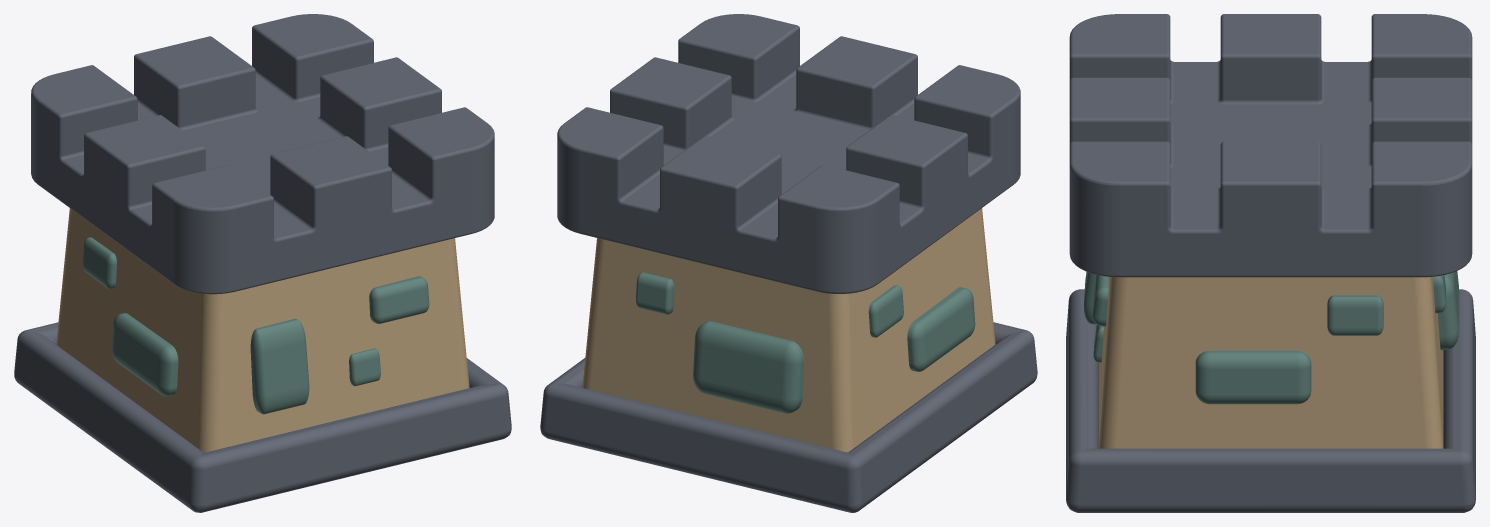
The model's file is TowerFinalsanscabane.fbx.
The picture shows the model from 3 angles, left to right: view 1: azimuth 30°, elevation 25°; view 2: azimuth 150°, elevation 25°; view 3: azimuth 270°, elevation 25°; orthographic projection. The views are drawn at different scales.
Visible parts, largest first — view 1: Plane.001, Plane, Plane.002, Cube.005, Cube.008, Cube.004, Cube.007, Cube.006; view 2: Plane.001, Plane, Plane.002, Cube.010, Cube.008, Cube.009, Cube.007; view 3: Plane.001, Plane, Plane.002, Cube.002, Cube.003, Cube.010, Cube.004, Cube.005.
Boxes of the visible parts, box(x1,y1,x2,y2) form: Plane.001: box(31, 14, 494, 294); Plane: box(56, 208, 469, 452); Plane.002: box(14, 322, 511, 512); Cube.005: box(250, 318, 309, 414); Cube.008: box(112, 313, 178, 396); Cube.004: box(369, 276, 429, 323); Cube.007: box(82, 237, 116, 289); Cube.006: box(349, 348, 380, 386); Plane.001: box(557, 14, 1020, 293); Plane: box(582, 208, 995, 452); Plane.002: box(540, 322, 1037, 512); Cube.010: box(693, 321, 803, 413); Cube.008: box(907, 287, 975, 371); Cube.009: box(636, 272, 674, 314); Cube.007: box(868, 285, 903, 337); Plane.001: box(1069, 14, 1472, 277); Plane: box(1098, 277, 1443, 448); Plane.002: box(1066, 289, 1475, 512); Cube.002: box(1195, 350, 1311, 404); Cube.003: box(1327, 295, 1383, 335); Cube.010: box(1437, 271, 1458, 350); Cube.004: box(1092, 275, 1108, 326); Cube.005: box(1084, 272, 1096, 324).
Size of the model in its own units: 233 by 210 by 233.
